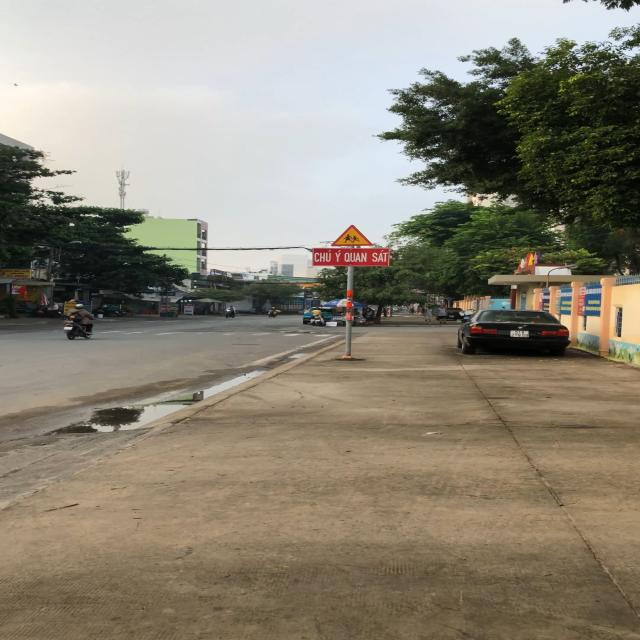Bien bao tre em: (331, 224, 372, 247)
